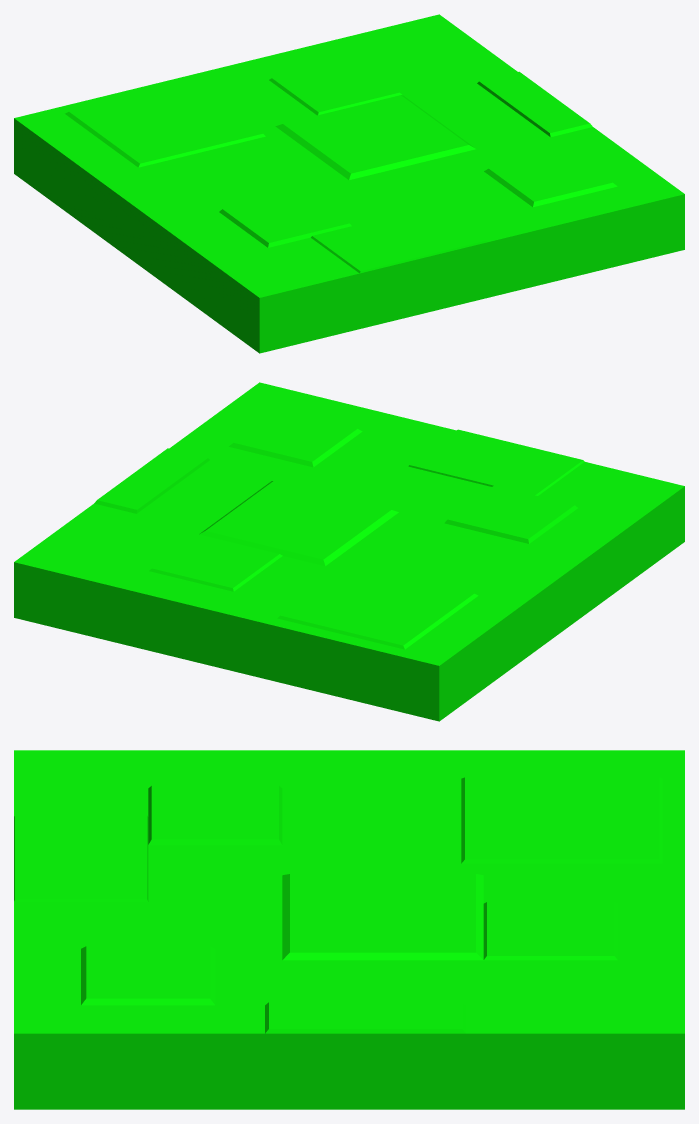
The model's file is GROUND_BASIC_2.fbx.
3 renders of one model, top to bottom at view 1: azimuth 30°, elevation 25°; view 2: azimuth 150°, elevation 25°; view 3: azimuth 270°, elevation 25°, orthographic. The views are drawn at different scales.
Visible parts, largest first — view 1: GROUND_BASIC_2; view 2: GROUND_BASIC_2; view 3: GROUND_BASIC_2.
Part boxes in pixels (x1,y1,x2,y2): GROUND_BASIC_2: (14,14,684,353); GROUND_BASIC_2: (14,382,684,721); GROUND_BASIC_2: (14,750,684,1109).
Size of the model in its own units: 400 by 53 by 400.
